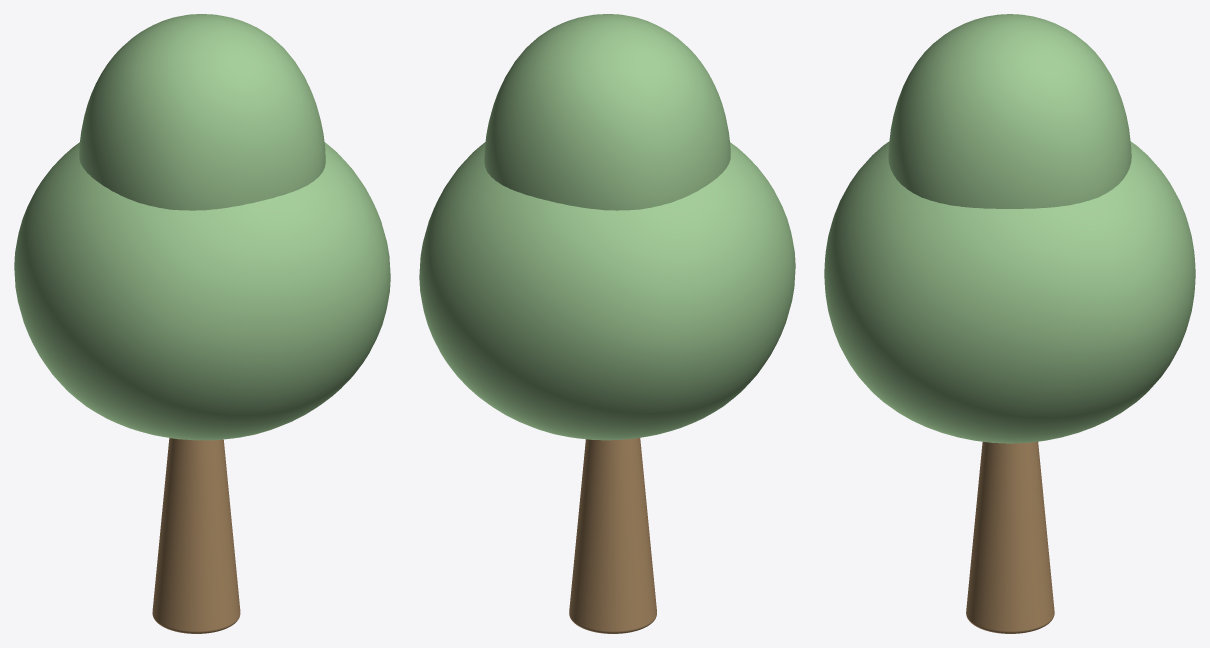
File: tree.gltf
The picture shows the model from 3 angles, left to right: view 1: azimuth 30°, elevation 25°; view 2: azimuth 150°, elevation 25°; view 3: azimuth 270°, elevation 25°; orthographic projection.
Parts seen in each view (by area): view 1: Cube, Subdiv, trunk; view 2: Cube, Subdiv, trunk; view 3: Cube, Subdiv, trunk.
Part boxes in pixels (x1=…): Cube: x1=14, y1=142, x2=390, y2=440; Subdiv: x1=79, y1=14, x2=325, y2=210; trunk: x1=152, y1=438, x2=240, y2=633; Cube: x1=419, y1=142, x2=795, y2=440; Subdiv: x1=484, y1=14, x2=730, y2=210; trunk: x1=569, y1=438, x2=656, y2=633; Cube: x1=824, y1=141, x2=1195, y2=443; Subdiv: x1=888, y1=14, x2=1131, y2=208; trunk: x1=966, y1=441, x2=1054, y2=633.
Size of the model in its own units: 3.13 by 5.54 by 3.13.
